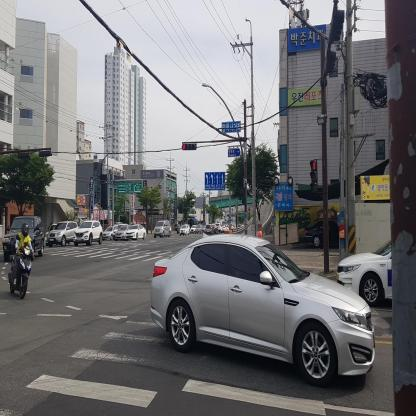Red: (310, 160, 318, 193)
